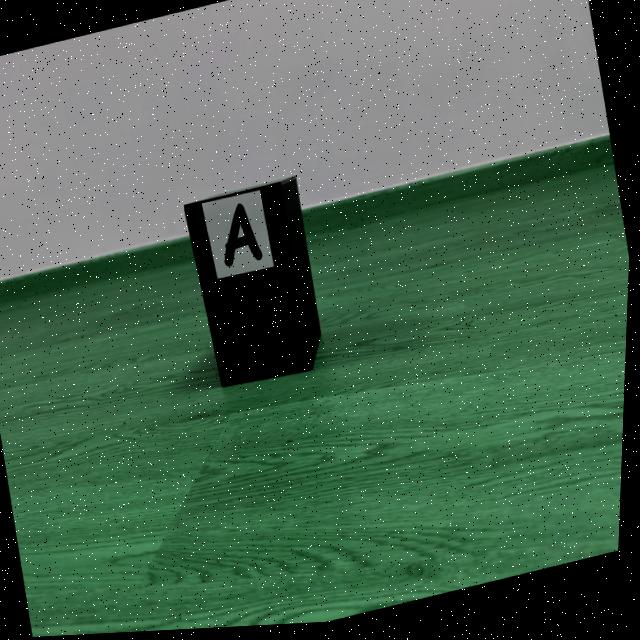A: (226, 206, 264, 269)
